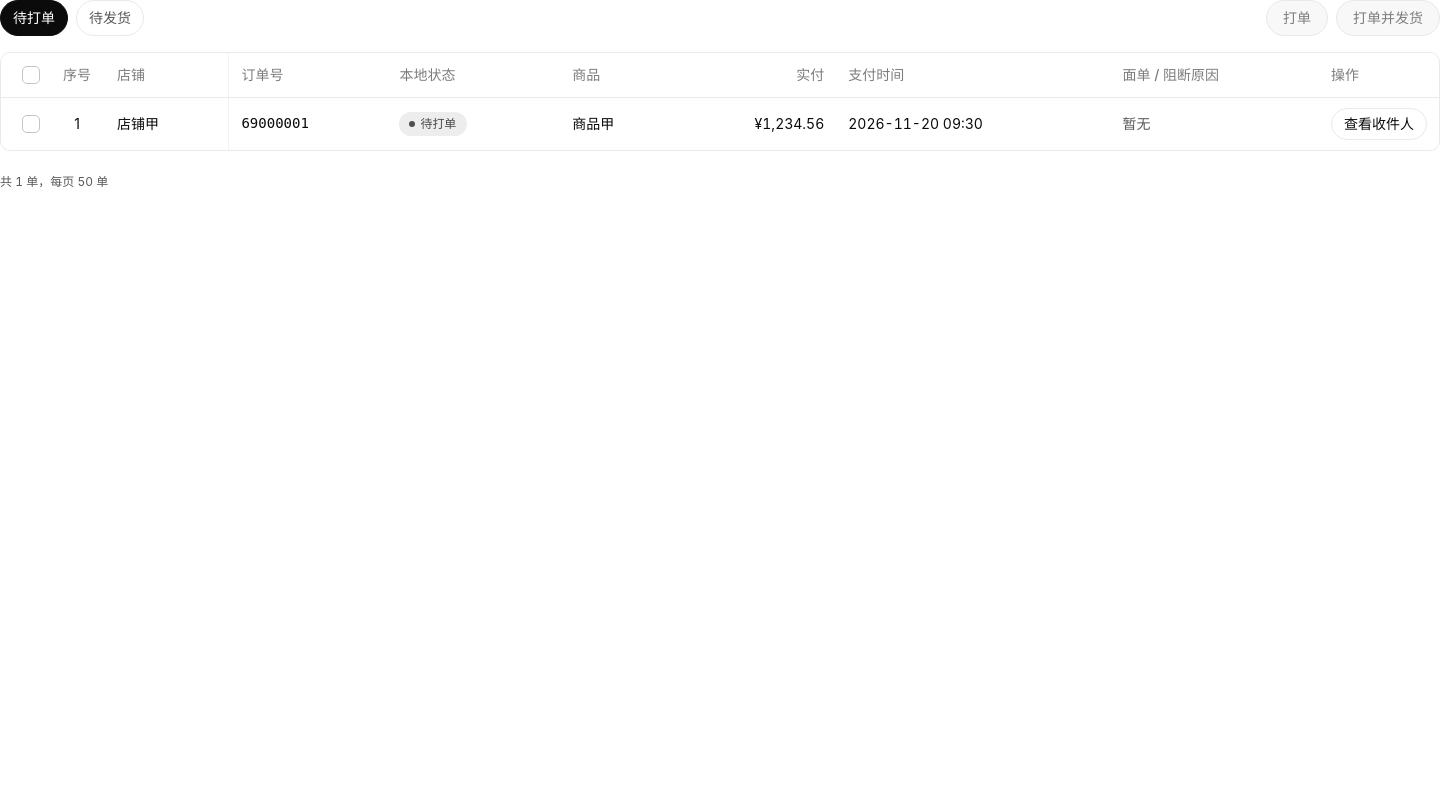
打单发货 › 勾选后打开预览：按店列出快递与账户，确认按钮需要按住
This screenshot has width=1440, height=810.
Click the checkbox named "选择订单 69000001" at (31, 124), box [13, 106, 49, 142]
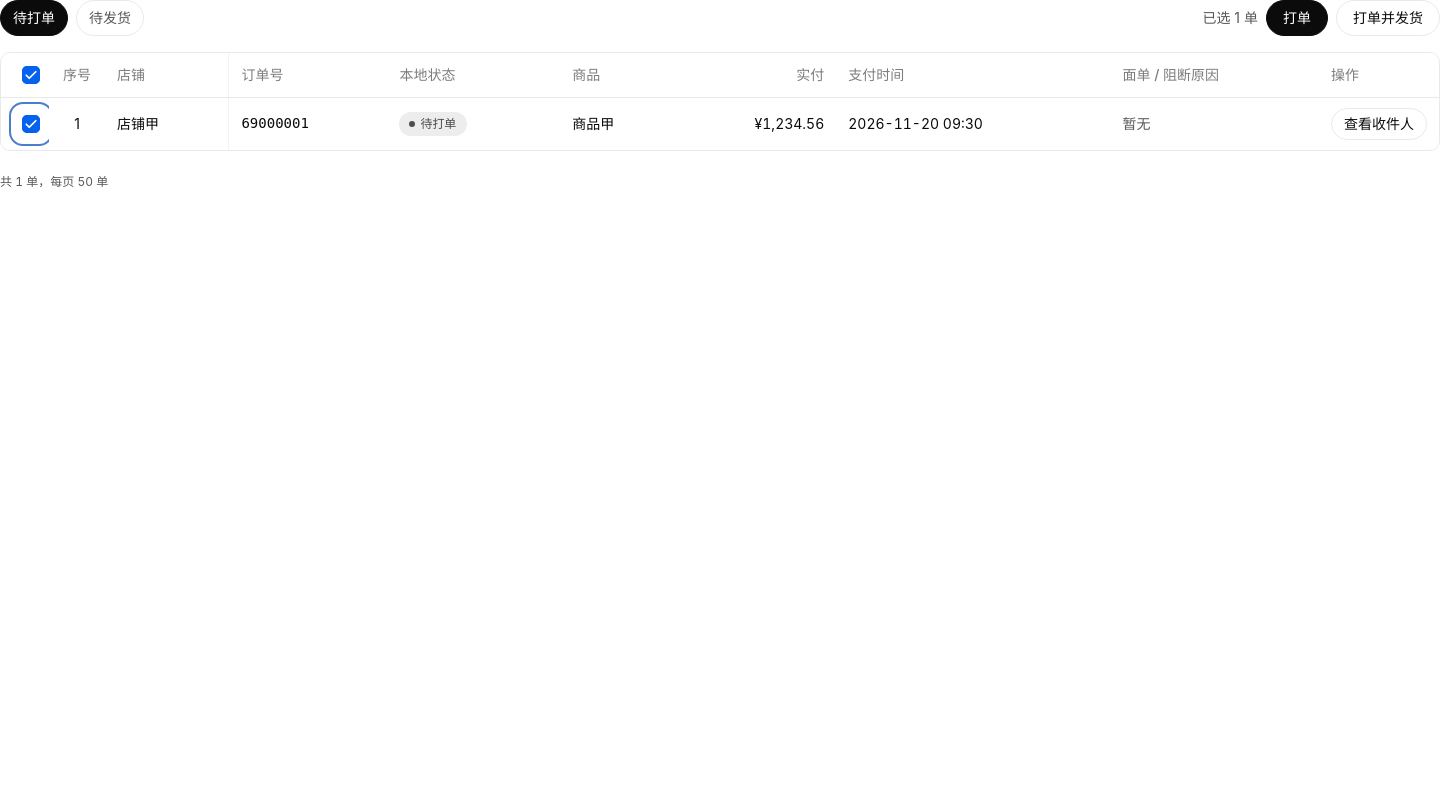
Click the button "打单" at (1297, 18), box [1266, 0, 1328, 36]
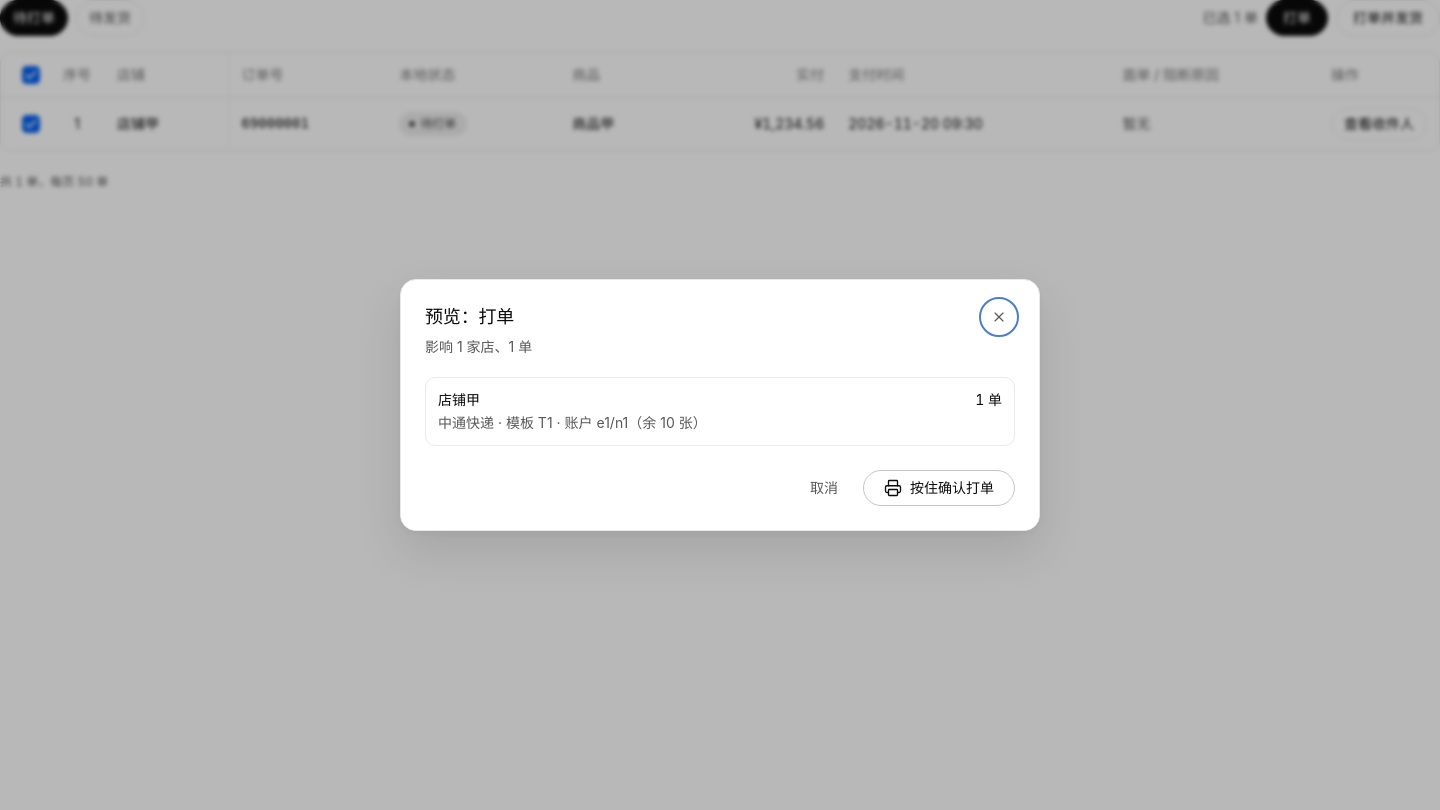
Now the text "预览：打单" is shown, box [425, 306, 514, 327]
Now the text "中通快递 · 模板 T1 · 账户 e1/n1（余 10 张）" is shown, box [438, 414, 707, 431]
Now the button "按住确认打单 按住确认打单" is shown, box [863, 470, 1015, 506]
